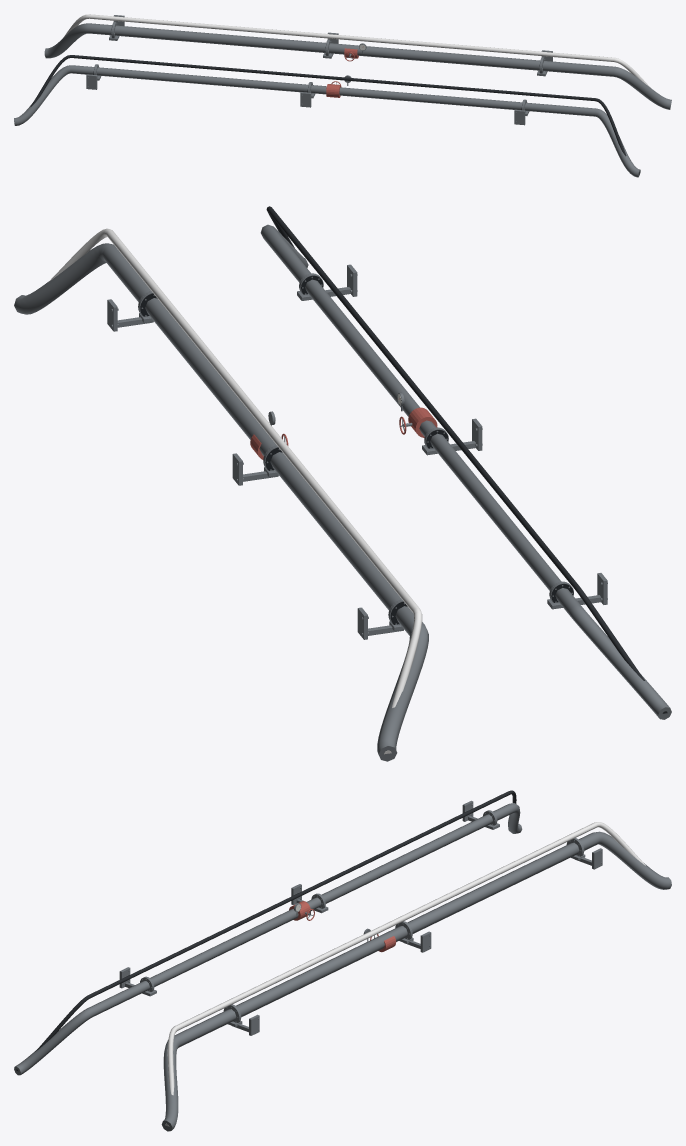
Rendered from BD_T09_UpperProcessLines.fbx.
3 views of the same model, one above another, from view 1: azimuth 30°, elevation 25°; view 2: azimuth 150°, elevation 25°; view 3: azimuth 270°, elevation 25° (orthographic). The views are drawn at different scales.
Parts seen in each view (by area): view 1: BD_T09_UpperProcessLines; view 2: BD_T09_UpperProcessLines; view 3: BD_T09_UpperProcessLines.
Boxes of the visible parts, left/top/right/bottom form: BD_T09_UpperProcessLines: left=14, top=14, right=671, bottom=177; BD_T09_UpperProcessLines: left=14, top=206, right=671, bottom=761; BD_T09_UpperProcessLines: left=14, top=790, right=671, bottom=1131.
Bounding box in the file's own units: 1635 × 189 × 1512.
